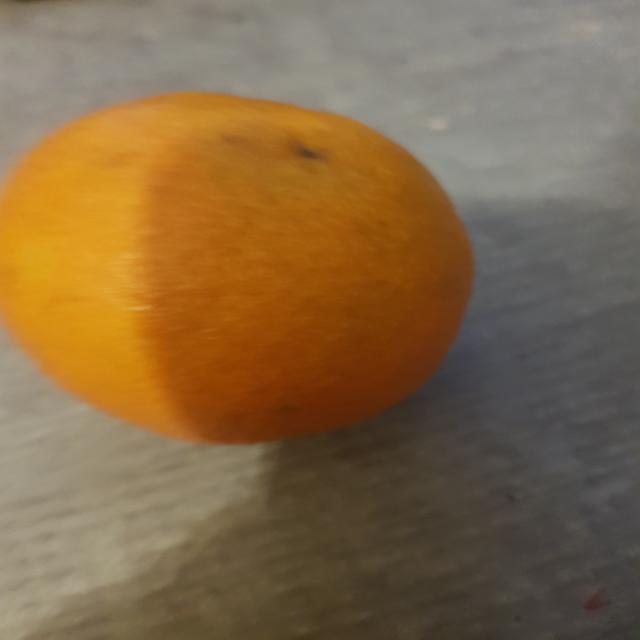Orange: (0, 91, 476, 449)
